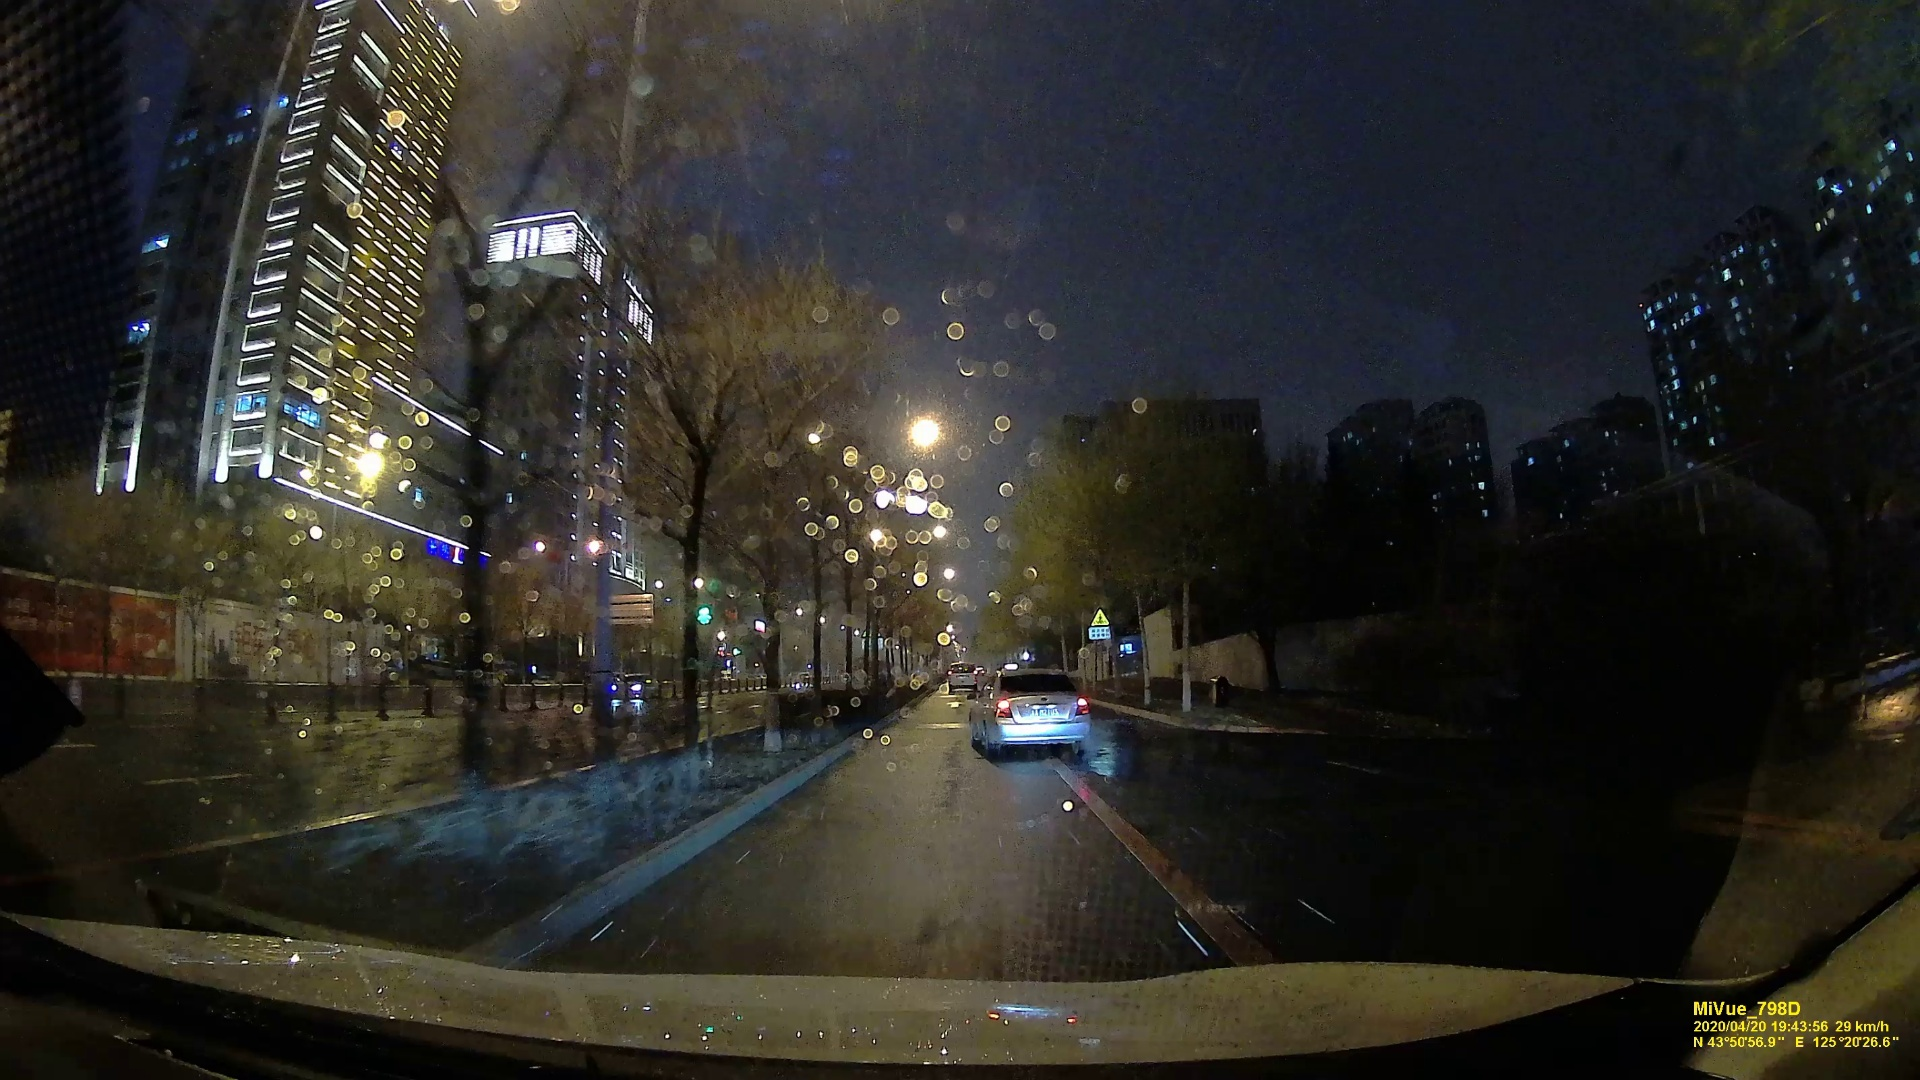traffic_sign: (1087, 609, 1116, 640)
vehicle: (967, 666, 1092, 761), (611, 673, 654, 698), (948, 659, 978, 692)
